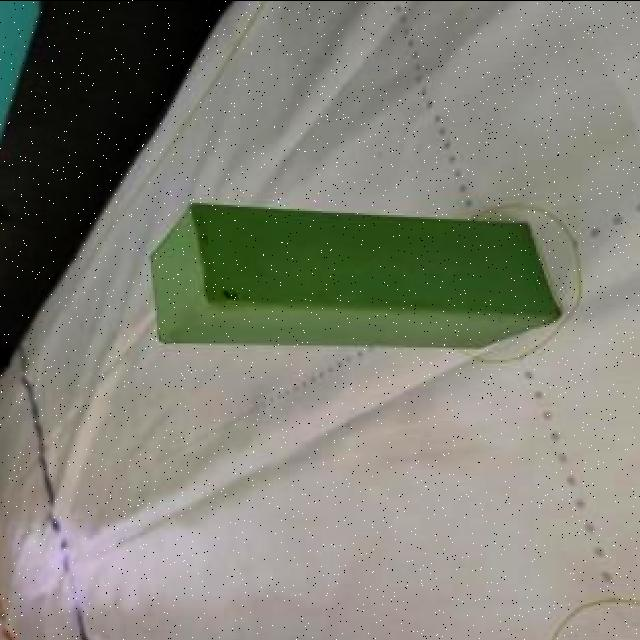greenbox: (147, 198, 564, 348)
